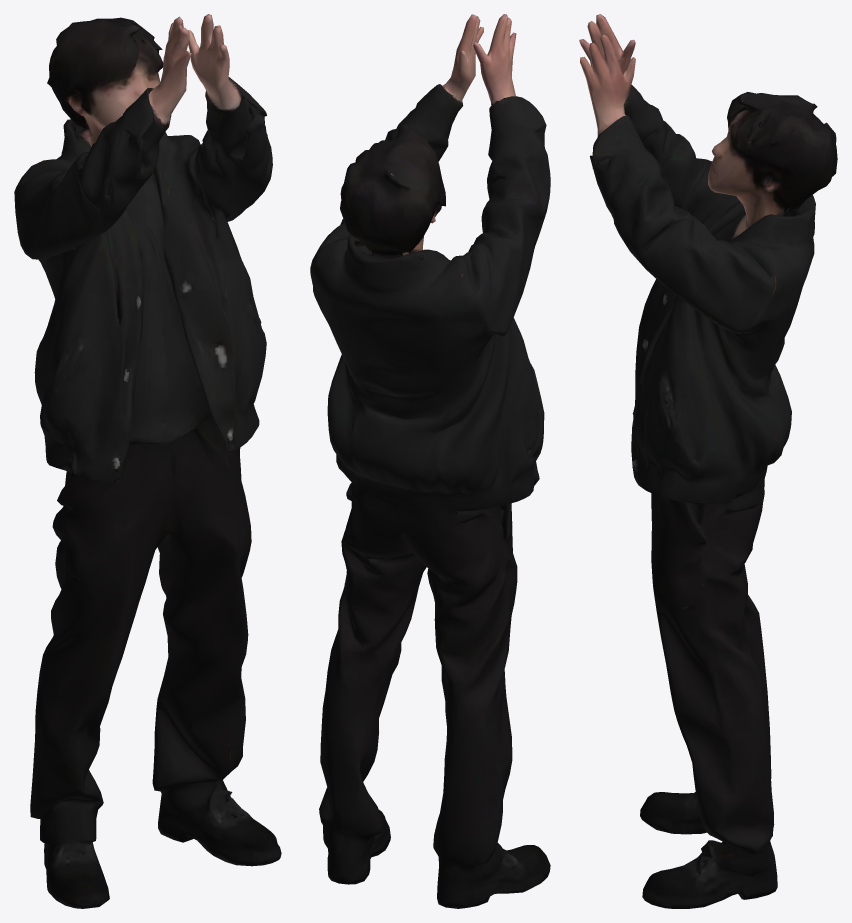
The model's file is fan-side-s2.glb.
3 renders of one model, left to right at view 1: azimuth 30°, elevation 25°; view 2: azimuth 150°, elevation 25°; view 3: azimuth 270°, elevation 25°, orthographic. The views are drawn at different scales.
Visible parts, largest first — view 1: geometry_0; view 2: geometry_0; view 3: geometry_0.
Part boxes in pixels (x1,y1,x2,y2): geometry_0: (14,14,281,908); geometry_0: (310,14,550,908); geometry_0: (579,14,837,908).
Size of the model in its own units: 0.2589 by 1 by 0.2801.
Materials: 1 (1 with a texture image).
